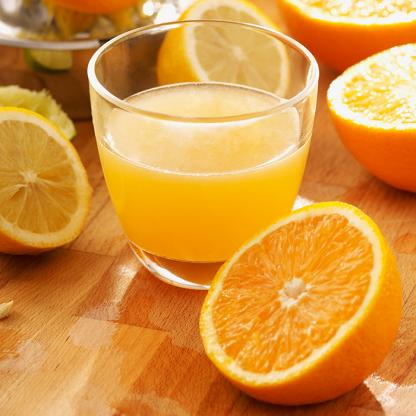---: (191, 191, 404, 409), (0, 103, 96, 265)
